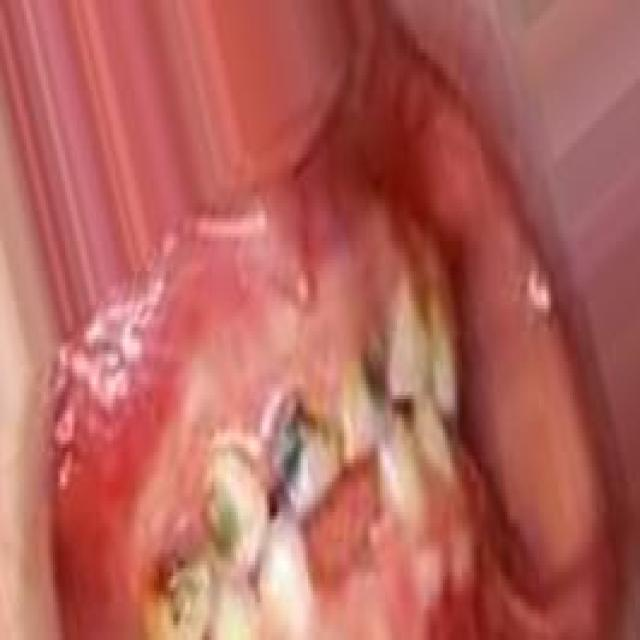caries: (252, 378, 344, 510), (202, 452, 270, 573), (353, 297, 415, 408), (146, 559, 210, 639)
